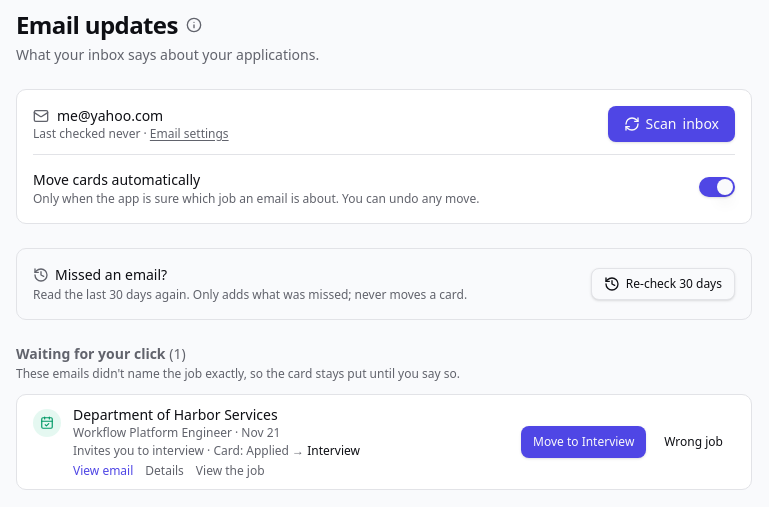
an update the app placed by its company › waiting: Move to Interview, or Wrong job
The width and height of the screenshot is (769, 507).
Expected: the button "Move to Interview" is shown, [521,426,646,458]
Click the button "Wrong job" at coordinates (694, 442), box [652,426,735,458]
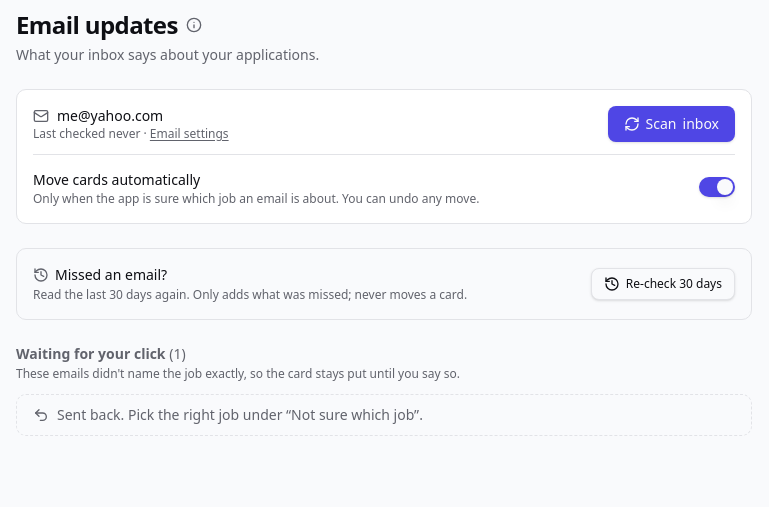
Expected: the list item "Sent back. Pick the right job under “Not sure which job”." is shown, [16,394,752,436]
